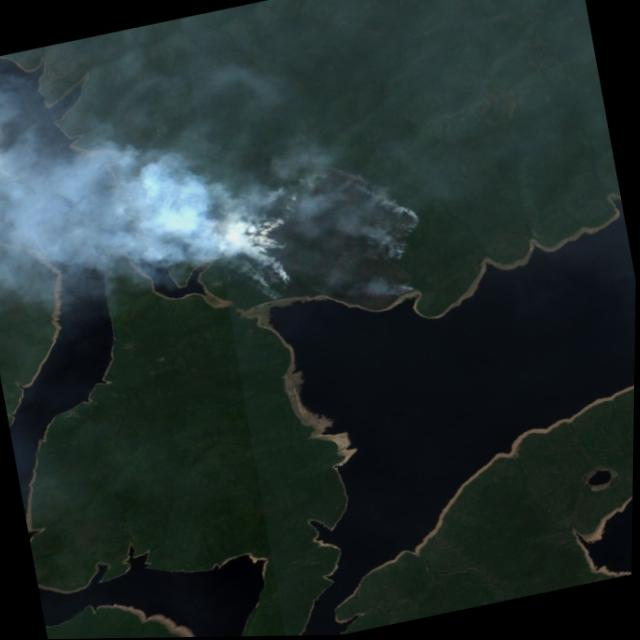fire: (233, 151, 437, 338)
